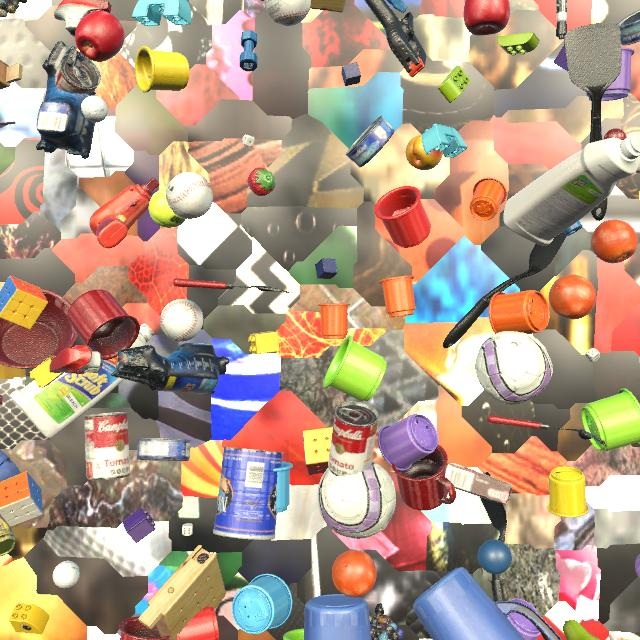ycb_002_master_chef_can: (213, 447, 284, 540)
ycb_005_tomato_soup_can: (328, 401, 379, 476), (84, 412, 130, 481), (42, 54, 101, 102)
ycb_007_tuna_fish_can: (345, 116, 395, 167), (137, 438, 191, 461), (617, 10, 640, 45)
ycb_008_pudding_box: (445, 463, 513, 505)
ycb_010_potted_meat_can: (0, 515, 15, 556)
ycb_012_strawberry: (248, 167, 275, 196)
ycb_013_apple: (75, 10, 125, 62), (464, 0, 510, 35)
ycb_015_peach: (406, 135, 443, 170)
ycb_016_pear: (563, 619, 600, 640)
ycb_017_orange: (548, 274, 596, 319), (332, 550, 377, 597), (591, 220, 638, 263)
